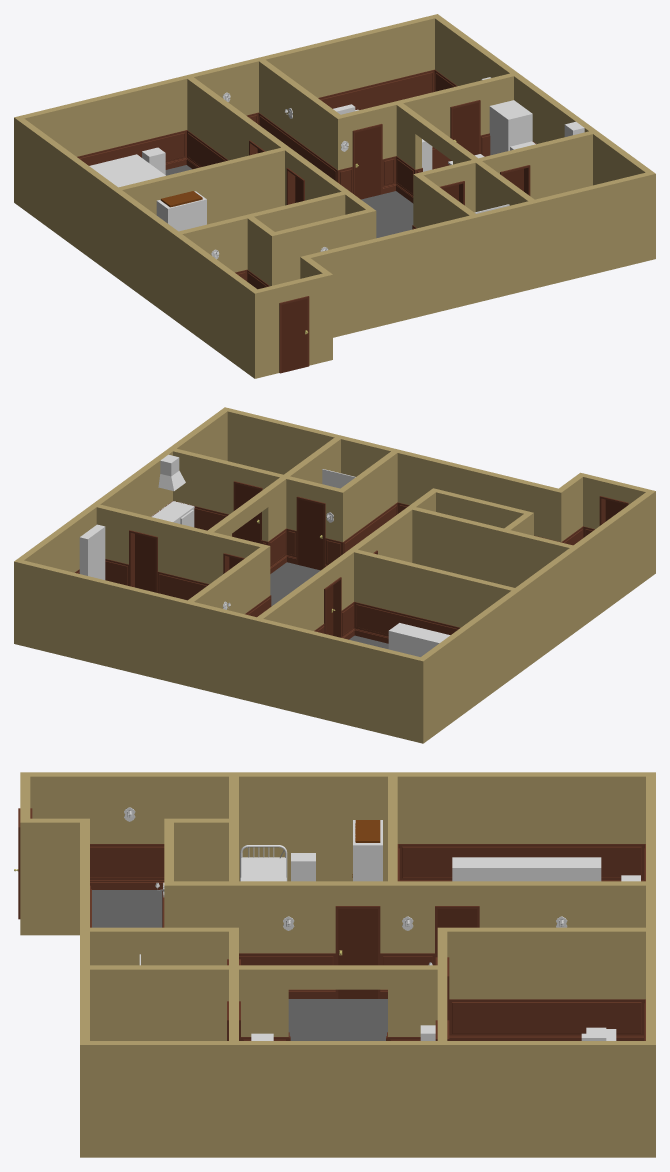
File: HouseModelNew.fbx
3 views of the same model, one above another, from view 1: azimuth 30°, elevation 25°; view 2: azimuth 150°, elevation 25°; view 3: azimuth 270°, elevation 25° (orthographic). The views are drawn at different scales.
Parts seen in each view (by area): view 1: Walls, WallDecour, Kitchen, Door.007, Main room, Door.003, Floor, Bedroom, Door.004; view 2: Walls, WallDecour, Door.006, Kitchen, Floor, Main room, Living room, Door.004, Door.005; view 3: Walls, WallDecour, Floor, Main room, Bedroom, Door.001, Door.002, Lamps, Porta.R.
Part boxes in pixels (<box>): Walls: <box>14,14,655,378</box>; WallDecour: <box>77,69,536,373</box>; Kitchen: <box>422,100,584,171</box>; Door.007: <box>281,298,308,372</box>; Main room: <box>89,147,165,187</box>; Door.003: <box>355,126,380,199</box>; Floor: <box>165,165,413,238</box>; Bedroom: <box>156,191,206,231</box>; Door.004: <box>452,102,478,155</box>; Walls: <box>14,407,655,743</box>; WallDecour: <box>75,481,628,643</box>; Door.006: <box>298,499,323,570</box>; Kitchen: <box>151,454,194,527</box>; Floor: <box>270,562,388,649</box>; Main room: <box>388,623,450,656</box>; Living room: <box>79,524,105,579</box>; Door.004: <box>135,534,155,592</box>; Door.005: <box>235,483,260,543</box>; Walls: <box>20,772,655,1157</box>; WallDecour: <box>18,808,645,1040</box>; Floor: <box>92,890,387,1040</box>; Main room: <box>452,857,640,881</box>; Bedroom: <box>241,820,382,881</box>; Door.001: <box>338,909,377,998</box>; Door.002: <box>437,909,477,927</box>; Lamps: <box>124,807,567,965</box>; Porta.R: <box>352,820,380,877</box>.
Bounding box in the file's own units: 1300 × 253 × 1293.
